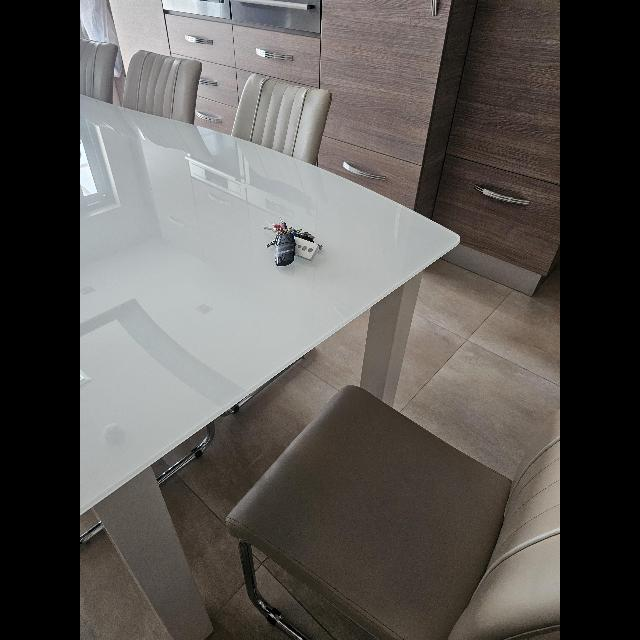Keys: (264, 214, 322, 264)
